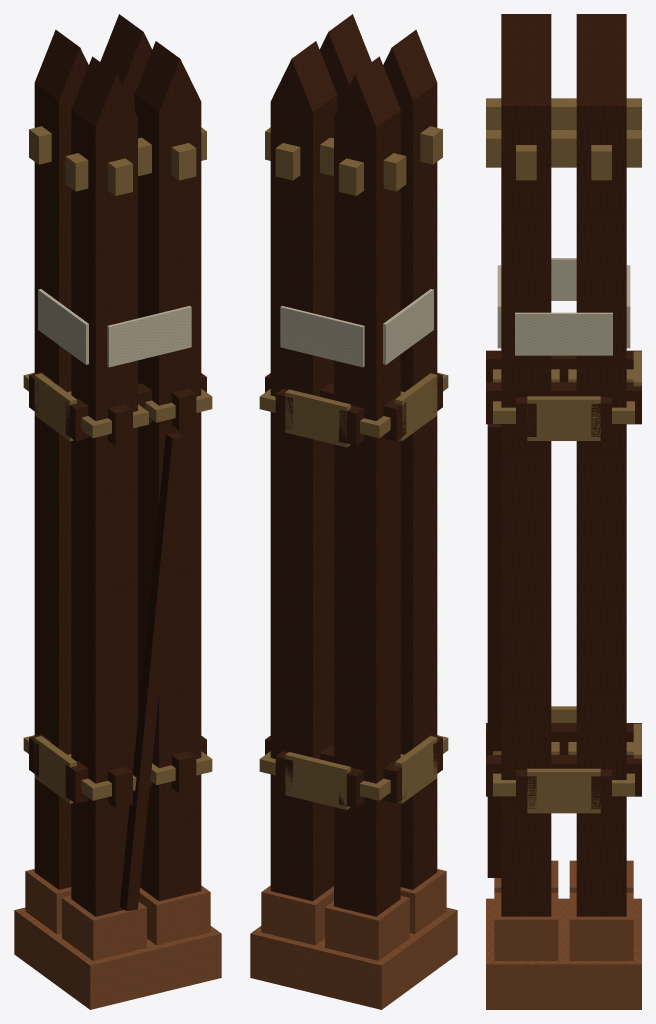
The model's file is Berber_PalisadeBastion_Age3_junction_T.fbx.
The picture shows the model from 3 angles, left to right: view 1: azimuth 30°, elevation 25°; view 2: azimuth 150°, elevation 25°; view 3: azimuth 270°, elevation 25°; orthographic projection. The views are drawn at different scales.
Parts seen in each view (by area): view 1: split_timber_upright.012, split_timber_upright.014, split_timber_upright.013, compacted_earth_footing.003, terminal_diagonal_stay.014, earth_post_socket.012, native_owner_stripe_source.014, earth_post_socket.014, split_timber_upright.015, native_owner_stripe_source.012, earth_post_socket.013, exposed_wall_socket_collar.015 (+14 smaller); view 2: split_timber_upright.013, split_timber_upright.015, split_timber_upright.012, compacted_earth_footing.003, earth_post_socket.013, native_owner_stripe_source.015, earth_post_socket.015, exposed_wall_socket_collar.012, exposed_wall_socket_collar.013, split_timber_upright.014, native_owner_stripe_source.012, earth_post_socket.012 (+12 smaller); view 3: split_timber_upright.014, split_timber_upright.015, compacted_earth_footing.003, terminal_diagonal_stay.014, native_owner_stripe_source.013, earth_post_socket.014, earth_post_socket.015, exposed_wall_socket_collar.010, exposed_wall_socket_collar.011, locking_head_tie_y.007, locking_head_tie_y.006, split_timber_upright.012 (+17 smaller).
Part boxes in pixels (bbox=[...]): split_timber_upright.012: bbox=[71, 56, 137, 916]; split_timber_upright.014: bbox=[134, 41, 201, 901]; split_timber_upright.013: bbox=[34, 30, 88, 889]; compacted_earth_footing.003: bbox=[14, 907, 221, 1009]; terminal_diagonal_stay.014: bbox=[119, 432, 183, 911]; earth_post_socket.012: bbox=[62, 896, 146, 960]; native_owner_stripe_source.014: bbox=[107, 306, 191, 367]; earth_post_socket.014: bbox=[138, 885, 210, 945]; split_timber_upright.015: bbox=[100, 14, 152, 109]; native_owner_stripe_source.012: bbox=[38, 289, 88, 364]; earth_post_socket.013: bbox=[25, 869, 71, 933]; exposed_wall_socket_collar.015: bbox=[34, 373, 76, 441]; split_timber_upright.013: bbox=[334, 56, 400, 916]; split_timber_upright.015: bbox=[270, 41, 337, 901]; split_timber_upright.012: bbox=[383, 30, 437, 889]; compacted_earth_footing.003: bbox=[250, 907, 457, 1009]; earth_post_socket.013: bbox=[325, 896, 409, 960]; native_owner_stripe_source.015: bbox=[280, 306, 364, 367]; earth_post_socket.015: bbox=[261, 885, 333, 945]; exposed_wall_socket_collar.012: bbox=[285, 752, 350, 809]; exposed_wall_socket_collar.013: bbox=[285, 389, 350, 447]; split_timber_upright.014: bbox=[319, 14, 371, 109]; native_owner_stripe_source.012: bbox=[383, 289, 433, 364]; earth_post_socket.012: bbox=[400, 869, 446, 933]; split_timber_upright.014: bbox=[501, 46, 551, 916]; split_timber_upright.015: bbox=[576, 46, 626, 916]; compacted_earth_footing.003: bbox=[486, 898, 641, 1009]; terminal_diagonal_stay.014: bbox=[487, 424, 501, 877]; native_owner_stripe_source.013: bbox=[515, 312, 612, 355]; earth_post_socket.014: bbox=[494, 892, 558, 960]; earth_post_socket.015: bbox=[569, 892, 633, 960]; exposed_wall_socket_collar.010: bbox=[527, 768, 600, 813]; exposed_wall_socket_collar.011: bbox=[527, 396, 600, 440]; locking_head_tie_y.007: bbox=[486, 130, 641, 167]; locking_head_tie_y.006: bbox=[486, 98, 641, 129]; split_timber_upright.012: bbox=[501, 14, 551, 45].
Bounding box in the file's own units: 68.29 × 458 × 68.29.
4 materials, 4 textured.
